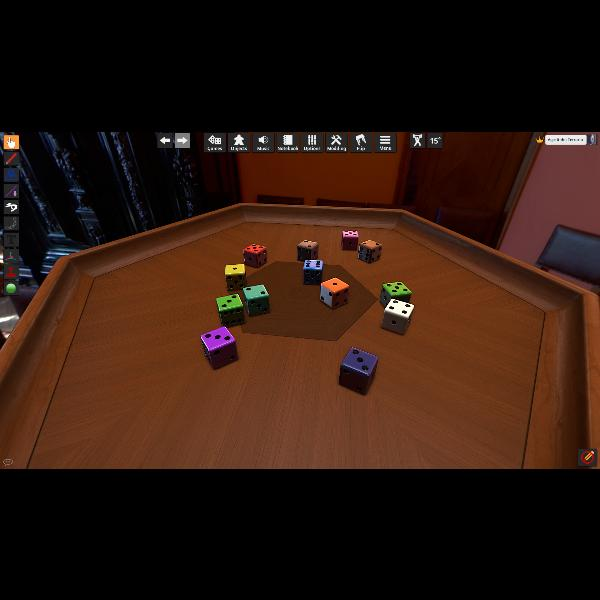d6: (337, 346, 377, 394), (200, 327, 238, 369), (382, 300, 414, 334), (216, 294, 245, 326), (320, 277, 348, 309), (244, 284, 272, 316), (380, 282, 410, 308), (356, 239, 382, 263), (225, 263, 247, 291), (244, 244, 266, 268), (302, 259, 322, 285), (296, 240, 316, 262), (341, 230, 359, 250)
